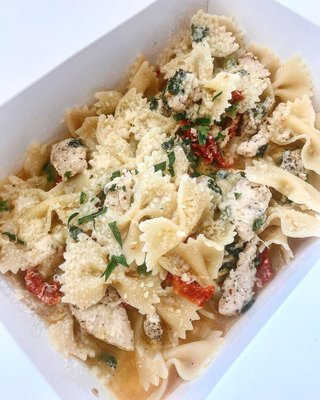sandwich: (0, 1, 320, 397)
